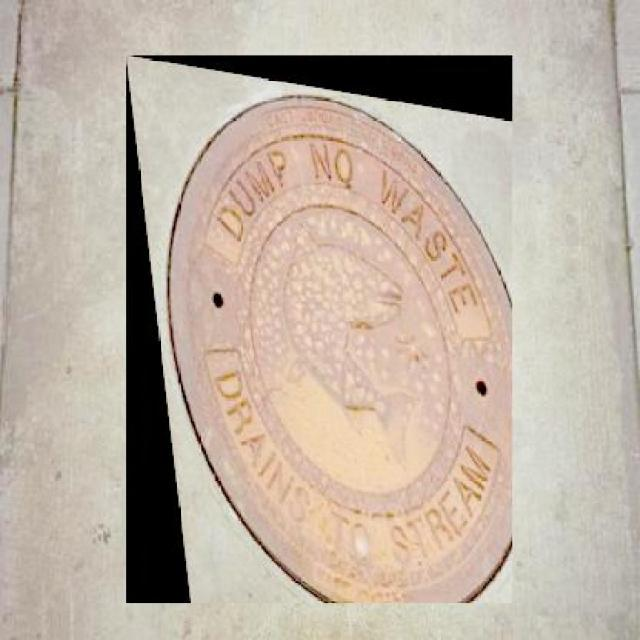Manhole: (126, 55, 512, 603)
